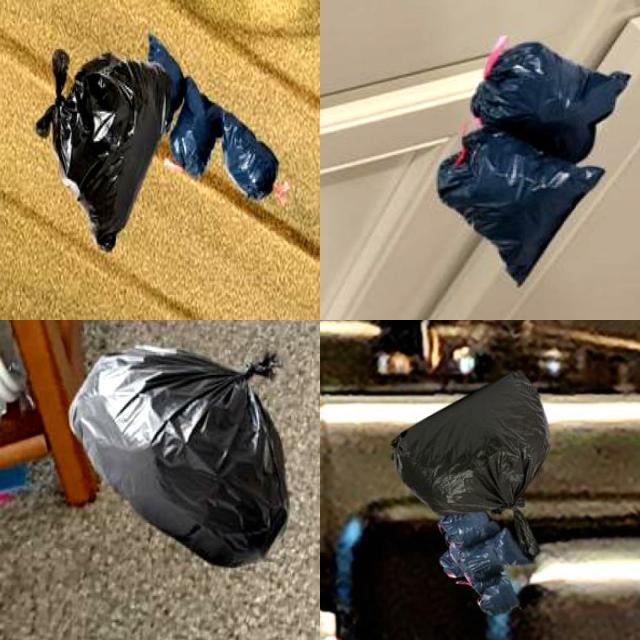Single-layer Plastic: (70, 346, 288, 566), (392, 372, 550, 559), (438, 119, 604, 285), (36, 50, 172, 249), (471, 38, 630, 164), (170, 78, 222, 178), (221, 111, 279, 199)
